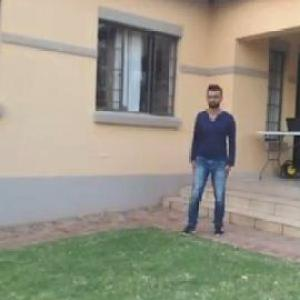follow: (188, 76, 236, 246)
